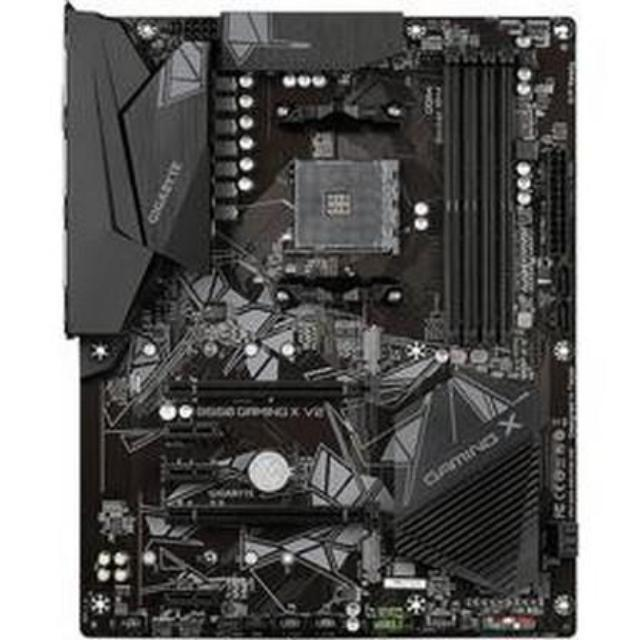Mainboard: (61, 5, 584, 640)
